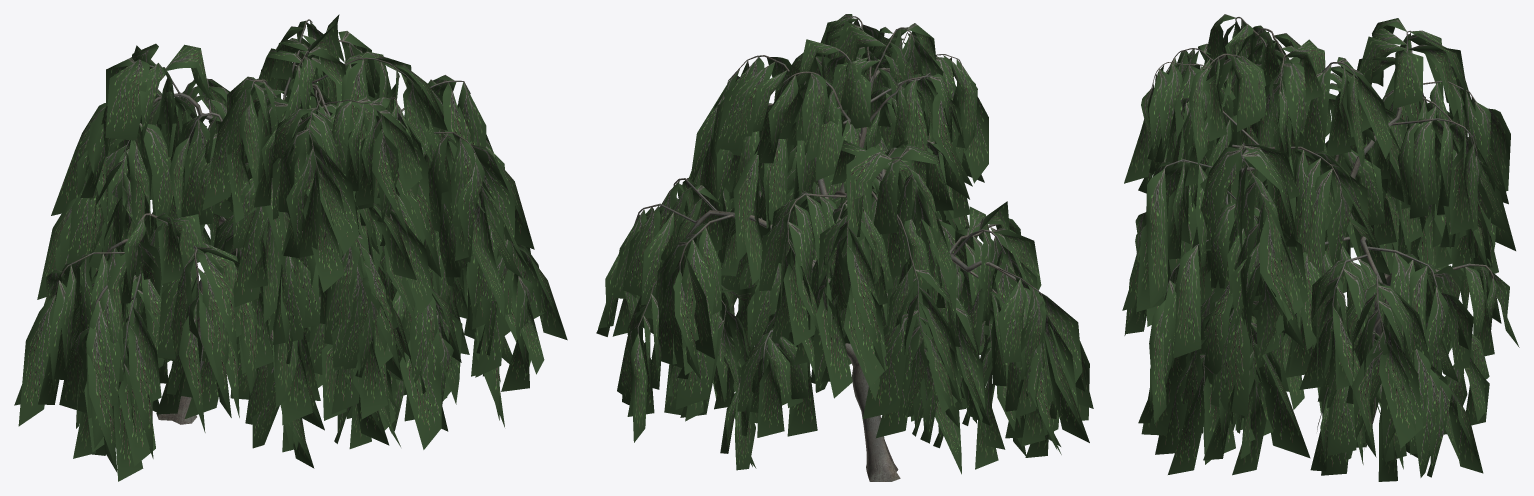
The model's file is SM_KYT_Willow01.fbx.
3 renders of one model, left to right at view 1: azimuth 30°, elevation 25°; view 2: azimuth 150°, elevation 25°; view 3: azimuth 270°, elevation 25°, orthographic. The views are drawn at different scales.
Parts seen in each view (by area): view 1: SM_KYT_Willow01_LOD0; view 2: SM_KYT_Willow01_LOD0; view 3: SM_KYT_Willow01_LOD0.
Part boxes in pixels (x1,y1,x2,y2): SM_KYT_Willow01_LOD0: (14,14,567,481); SM_KYT_Willow01_LOD0: (596,14,1093,481); SM_KYT_Willow01_LOD0: (1122,14,1519,481).
Bounding box in the file's own units: 1790 × 1297 × 1457.
2 materials, 2 textured.
